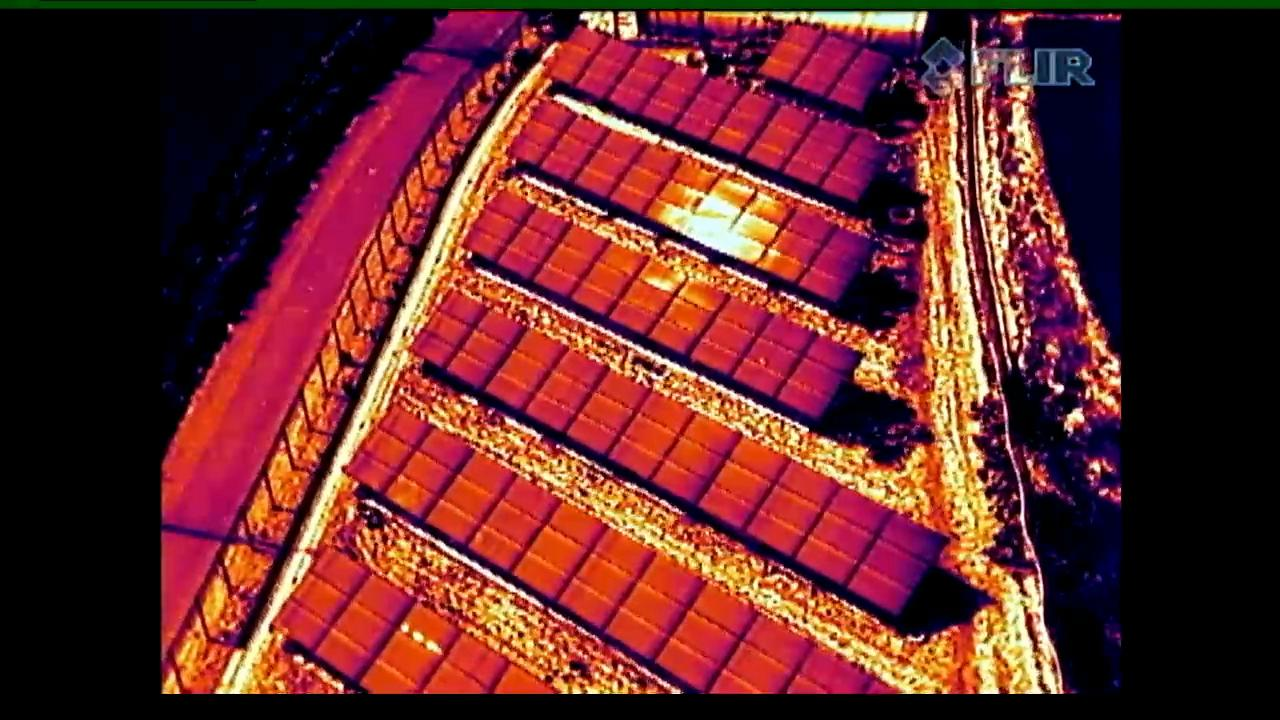hotspot: (354, 597, 460, 693), (733, 313, 819, 399)
